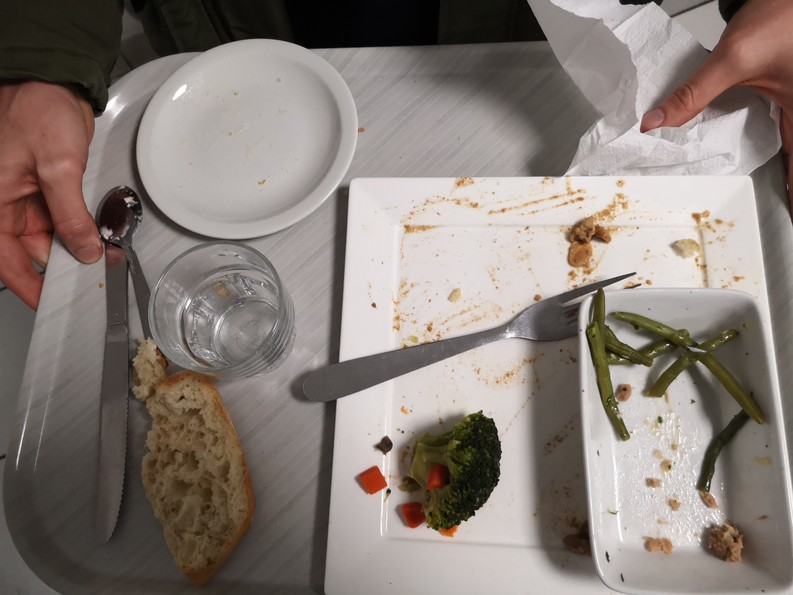cup: (142, 229, 316, 404)
cutlery: (281, 268, 654, 410), (78, 181, 155, 575)
orga: (124, 343, 268, 586), (591, 304, 757, 484), (408, 407, 507, 540)
trash: (516, 3, 793, 179)
